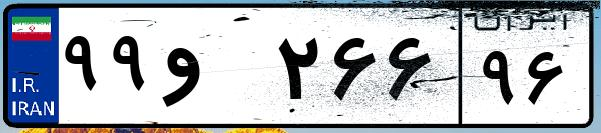2: (270, 28, 330, 110)
6: (385, 28, 445, 110), (330, 28, 385, 110), (525, 38, 570, 115)
9: (57, 26, 110, 100), (475, 38, 525, 113), (110, 28, 158, 98)
و: (158, 20, 270, 120)
